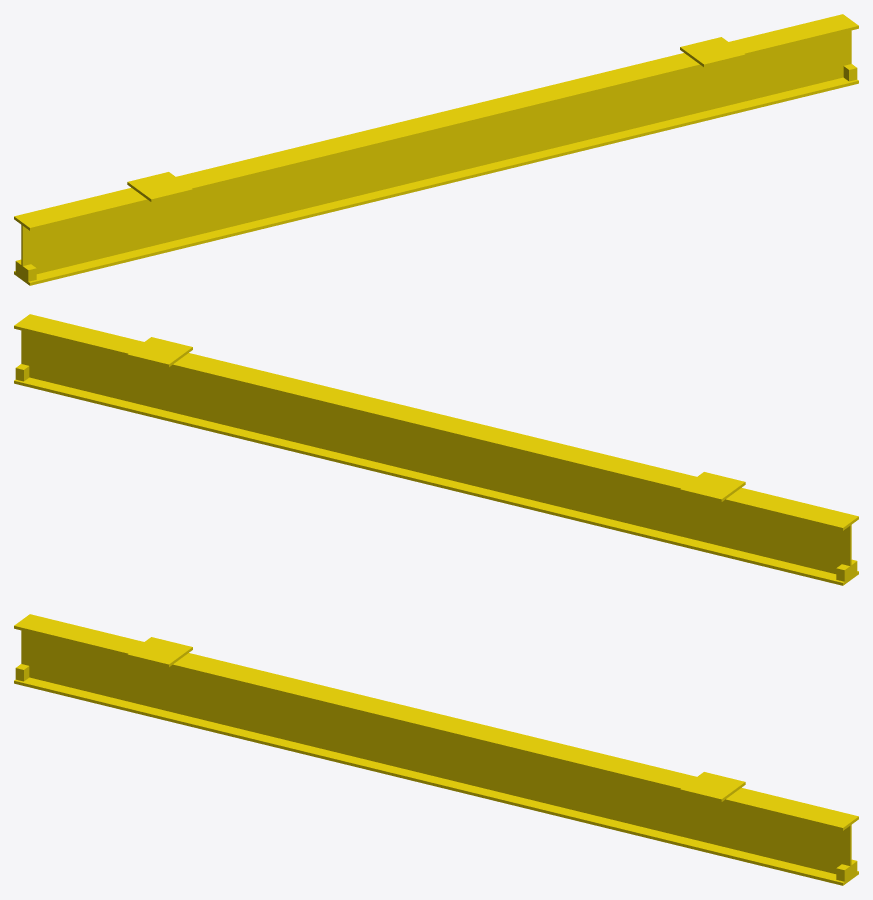
Rendered from beam-runway.glb.
3 views of the same model, one above another, from view 1: azimuth 30°, elevation 25°; view 2: azimuth 150°, elevation 25°; view 3: azimuth 330°, elevation 25° (orthographic).
Visible parts, largest first — view 1: body, track; view 2: body, track; view 3: body, track.
Part boxes in pixels (x1,y1,x2,y2): body: [14, 14, 858, 281]; track: [14, 77, 858, 285]; body: [14, 314, 858, 581]; track: [14, 377, 858, 585]; body: [14, 614, 858, 881]; track: [14, 677, 858, 885].
Size of what is drawn, in the model's own units: 6 by 0.42 by 0.3.
